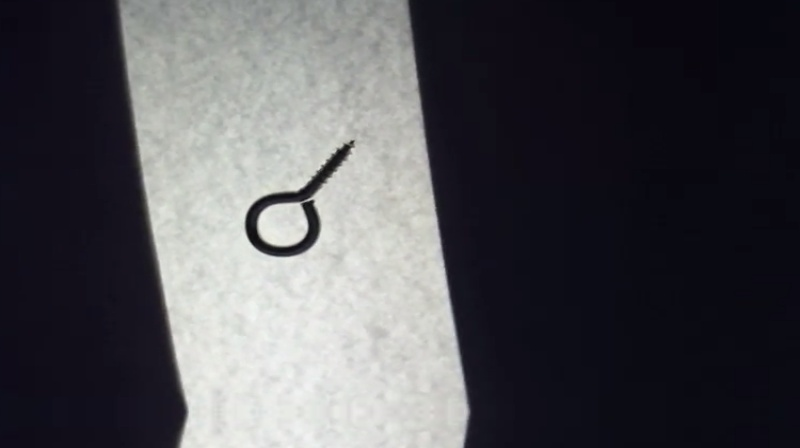O001: (241, 135, 361, 260)
